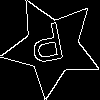P: (27, 22, 69, 73)
